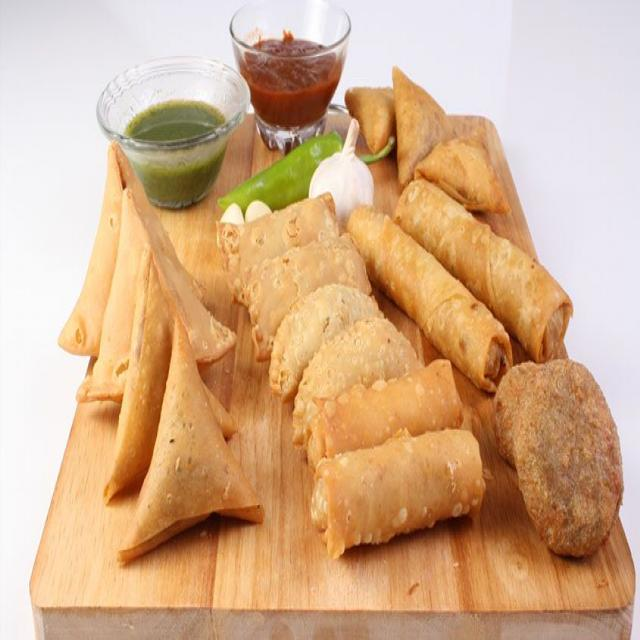Samosa: (52, 138, 264, 562), (342, 68, 510, 213)
Spring Rolls: (352, 172, 574, 382), (299, 351, 486, 550)
